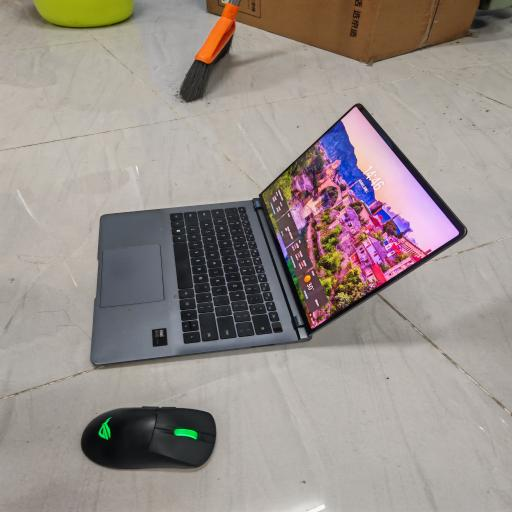laptop: (90, 104, 466, 364)
mouse: (81, 407, 216, 468)
